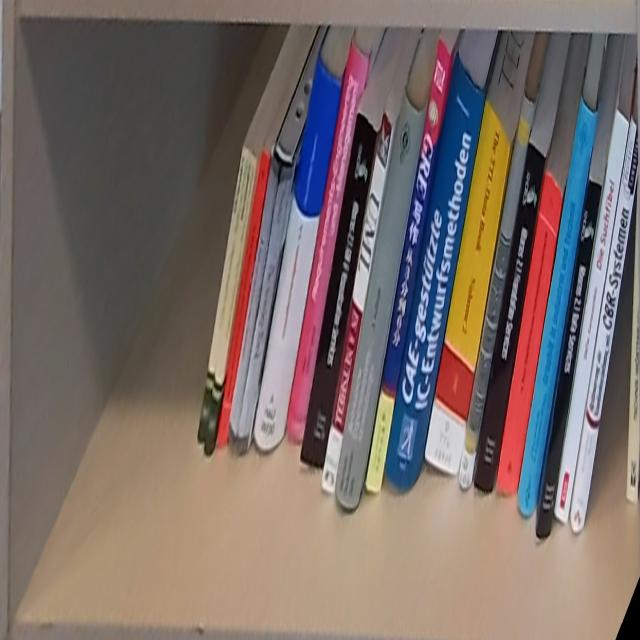Book Spine: (384, 46, 486, 491), (363, 36, 453, 498), (334, 87, 427, 511), (253, 52, 342, 455), (287, 36, 372, 444), (518, 97, 600, 517), (424, 97, 513, 478), (460, 90, 537, 493), (555, 108, 628, 527), (570, 117, 639, 536), (299, 115, 378, 471), (322, 107, 395, 491), (475, 142, 547, 499), (538, 174, 603, 540), (497, 172, 562, 496), (236, 165, 296, 457), (205, 153, 260, 457), (227, 145, 280, 460), (217, 147, 272, 449), (197, 144, 251, 444), (626, 181, 640, 506)
